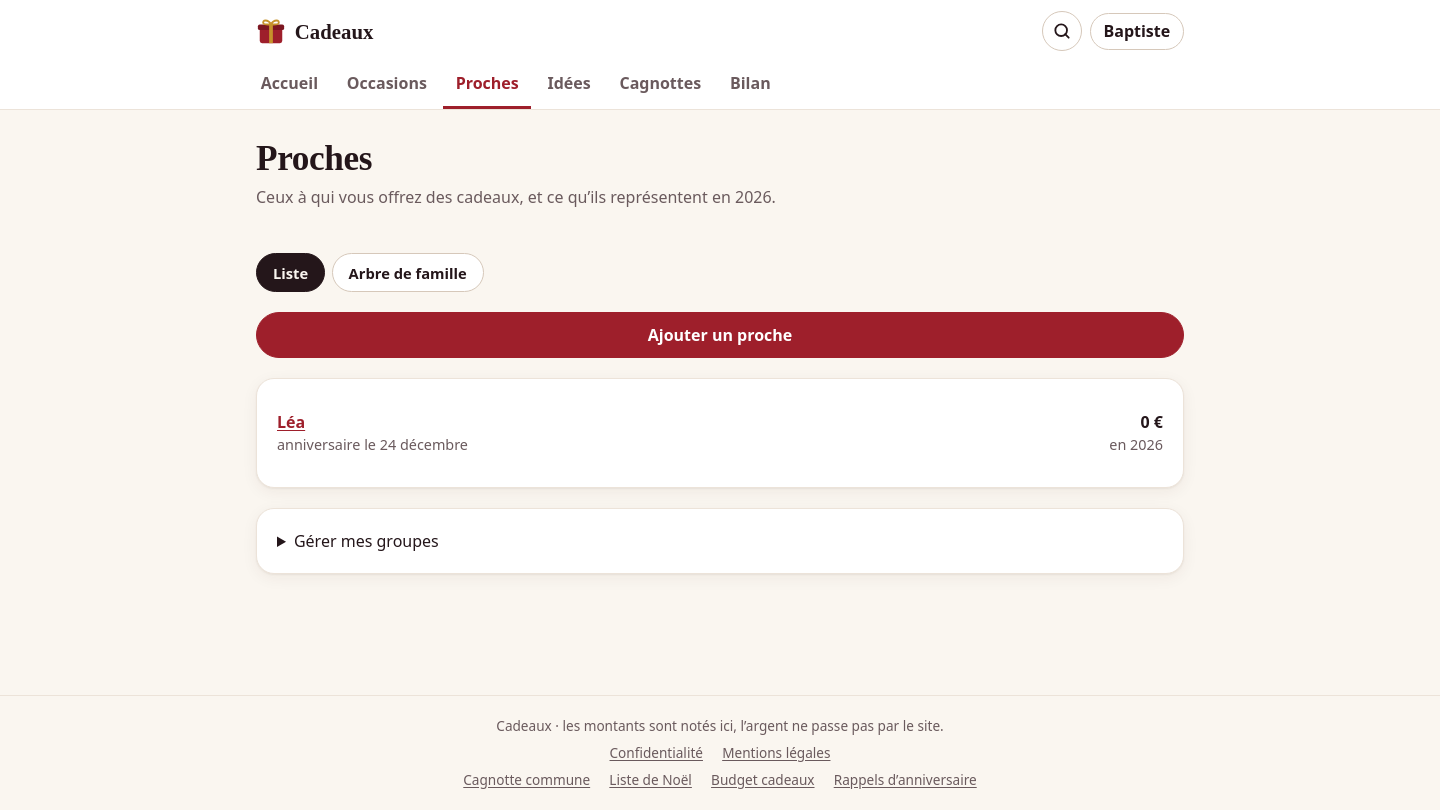
Scenario: proches › la liste mène à la fiche ; « Son anniversaire » crée l’occasion et ouvre le formulaire pour ce proche
Click the link "Léa" at (291,422), box [277,411,305,433]
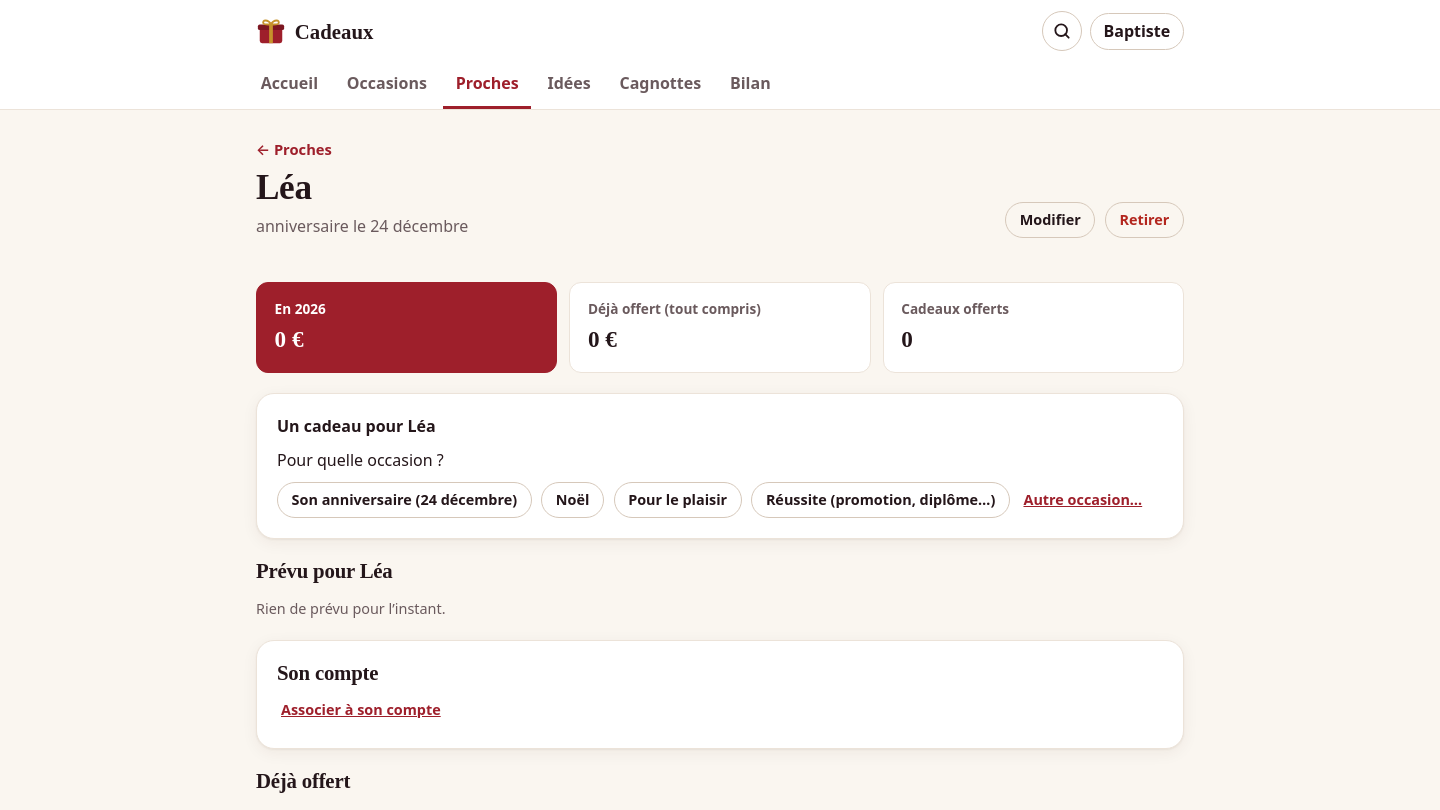
expect the heading "Léa" is shown: met, box [256,168,312,207]
expect the heading "Déjà offert" is shown: met, box [256,769,350,792]
Click the button "Son anniversaire (24 décembre)" at (404,500), box [277,482,532,518]
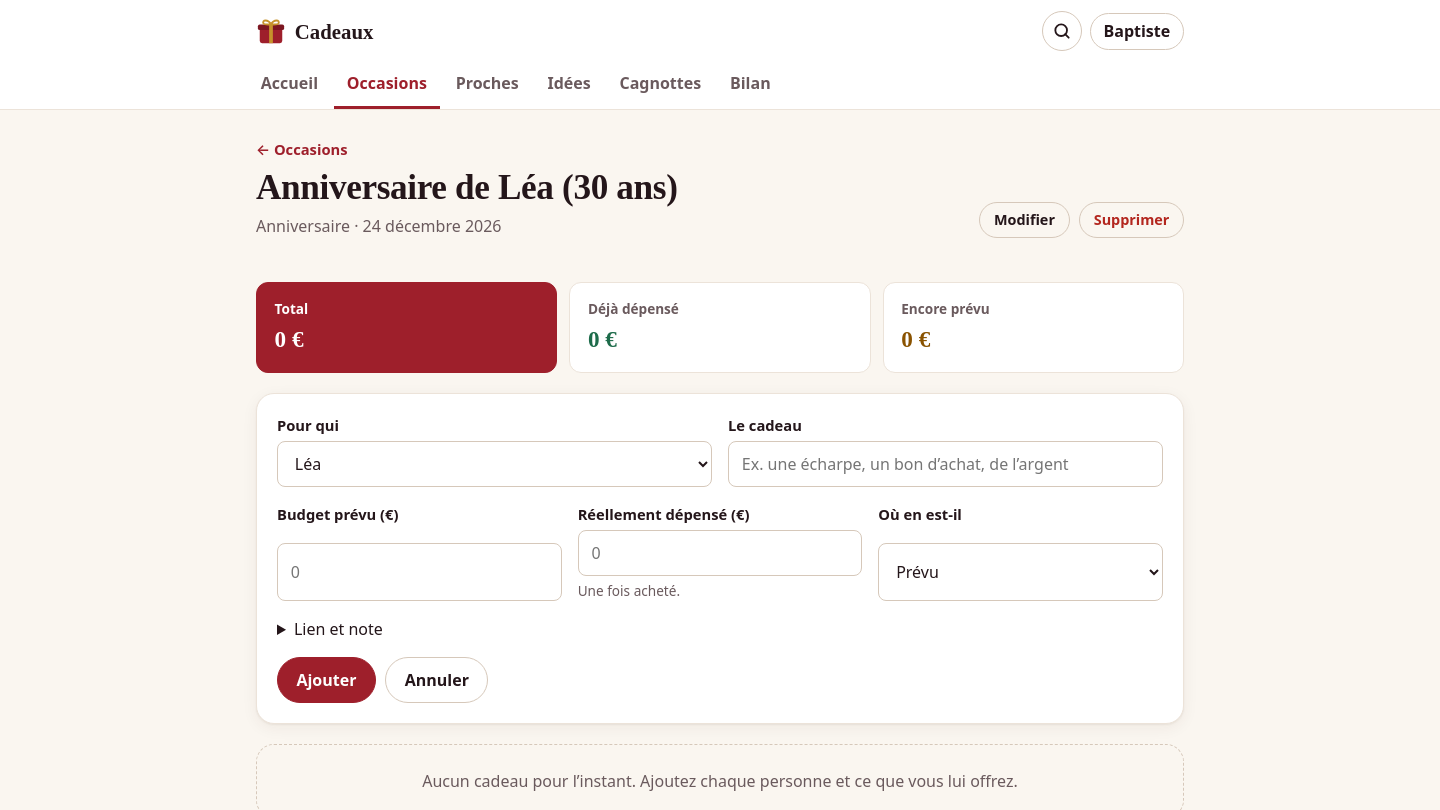
expect the dropdown labelled "Pour qui" shows "Léa": met, box [277,441,712,487]
expect the button "Ajouter" is shown: met, box [277,657,376,703]
